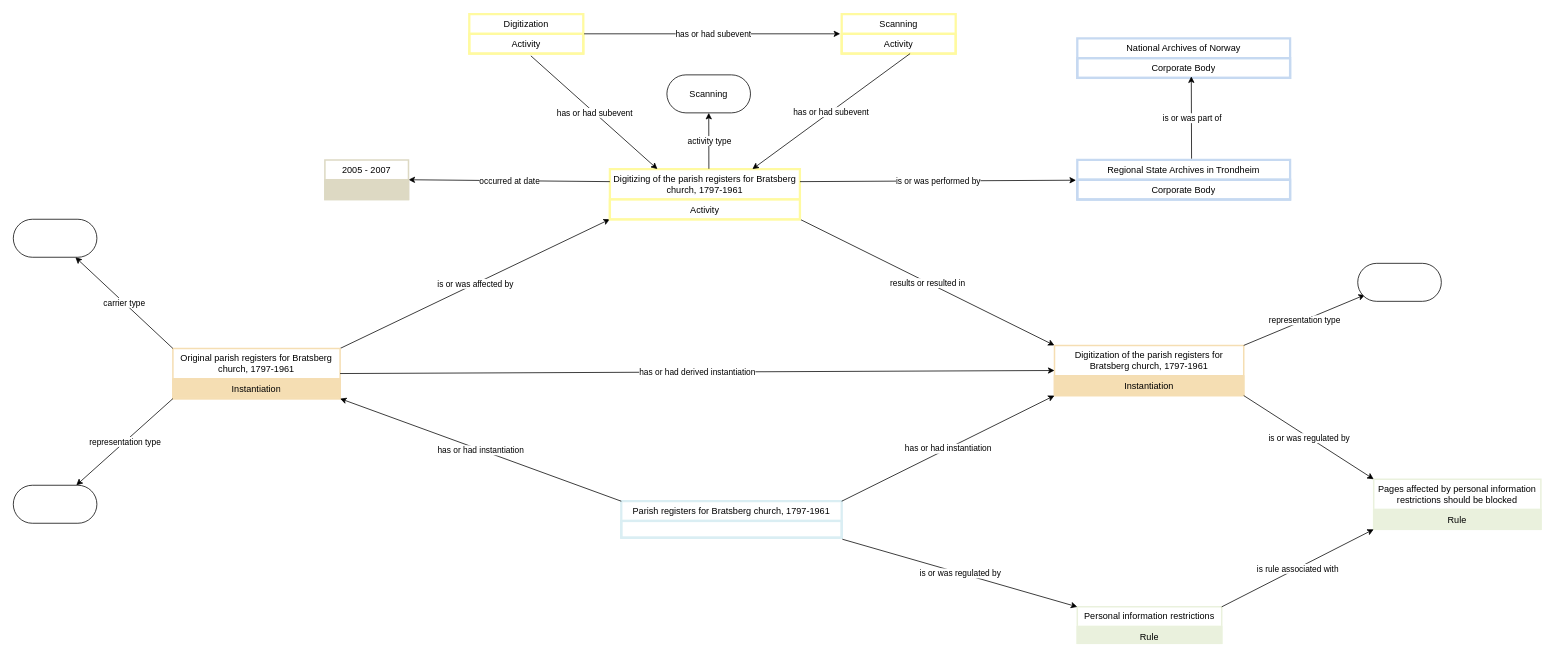
Some shapes in this 1555 by 659 pixel diagram are drawn without their labels. The shapes that lost their labels are listed below. From the top down, each one's centre as x and y in pixels, then its label:
At pixel 366 189: "Date".
At pixel 55 237: "Paper, hard-bound books".
At pixel 1399 282: "Digital textual".
At pixel 55 503: "Analogue textual".
At pixel 731 528: "Record Set".
